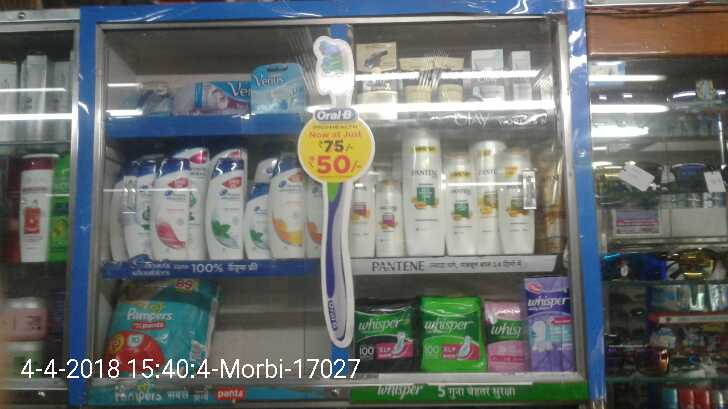venus: (248, 60, 310, 119), (190, 80, 247, 114)
